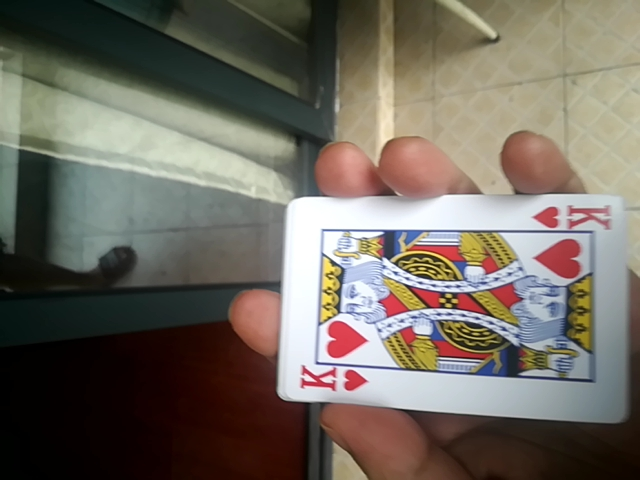hx k: (278, 185, 640, 427)
